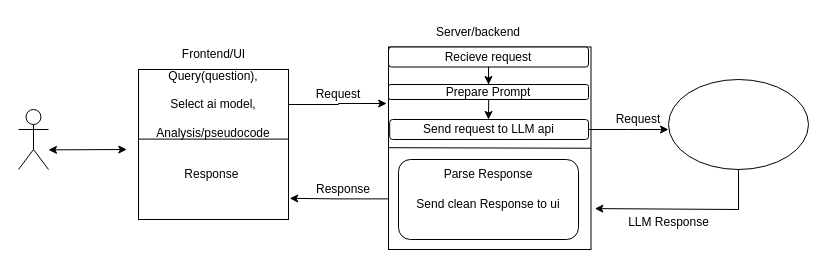
Some shapes in this 826 by 267 pixel diagram are drawn without their labels. Here are the shapes that lost their labels. From the top down, the centre of each, then its label:
At point (33, 139): "USER".
At point (738, 124): "together.ai API".
